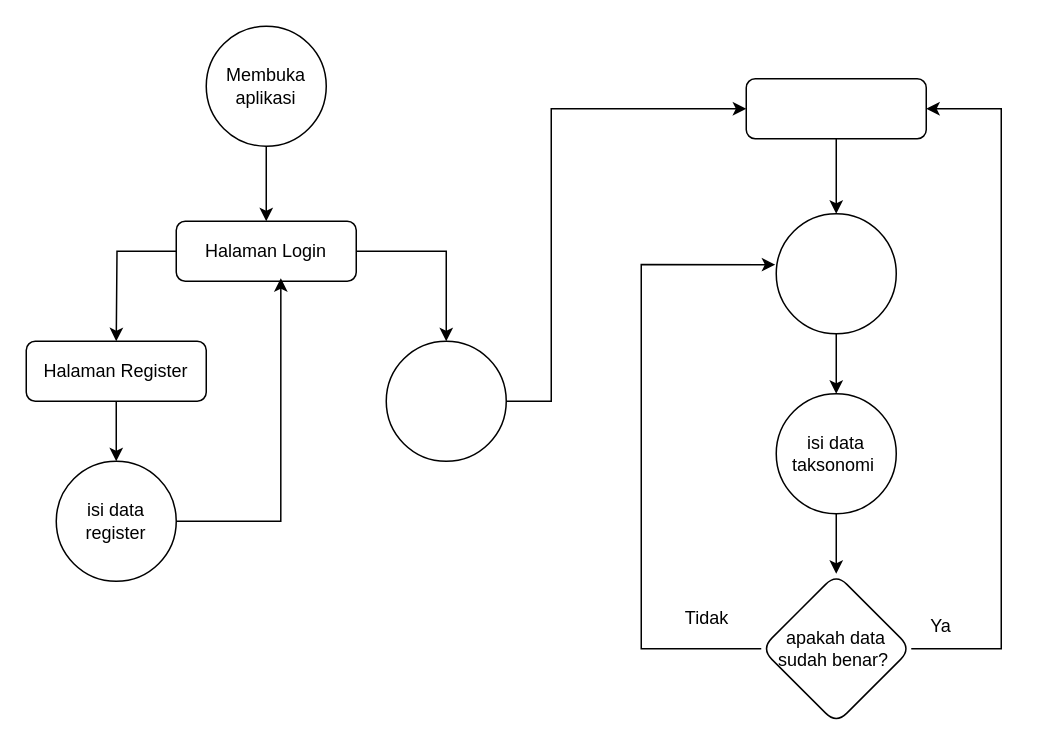
This 1040x750 diagram has some shape labels left out. Each missing label, with the centre of its shape:
Halaman tambah data: point 835,273
Halaman utama: point 835,108
isi data login: point 445,400
